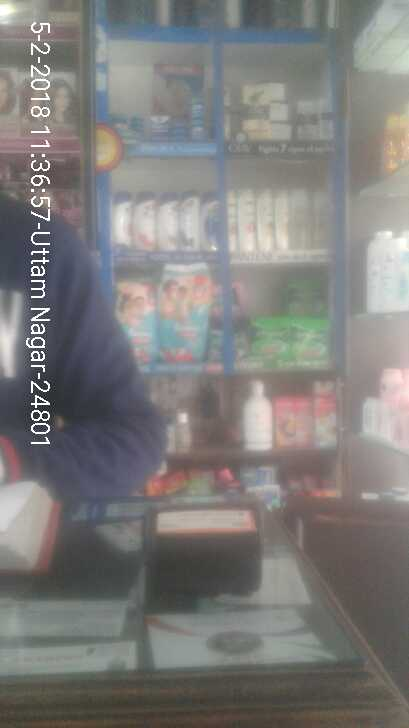vicks: (114, 92, 215, 142)
